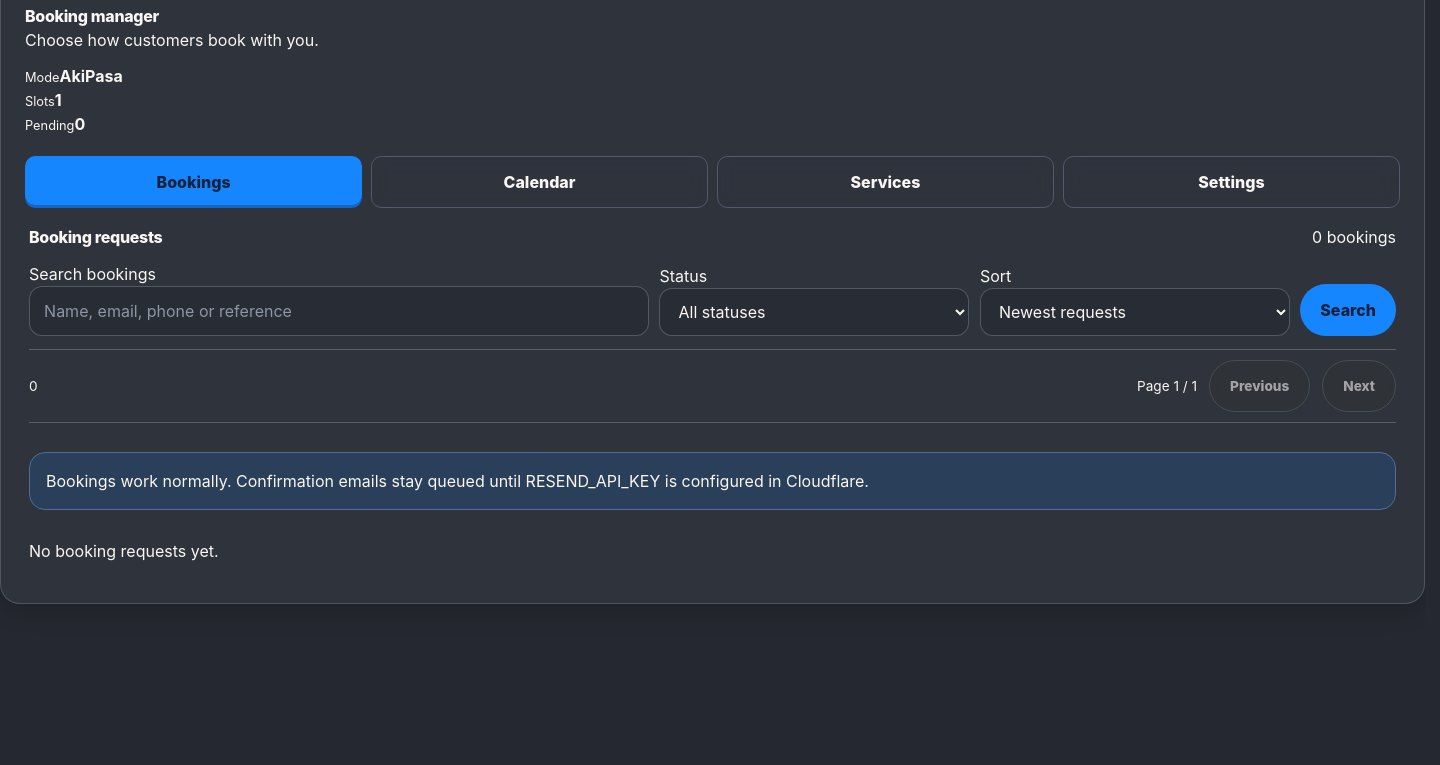
Scenario: AkiBusiness advanced booking manager › shows resources with inventory capacity and a create form
Click the button "Services".
click(886, 182)  # box [717,156,1054,208]
(page scrolled)
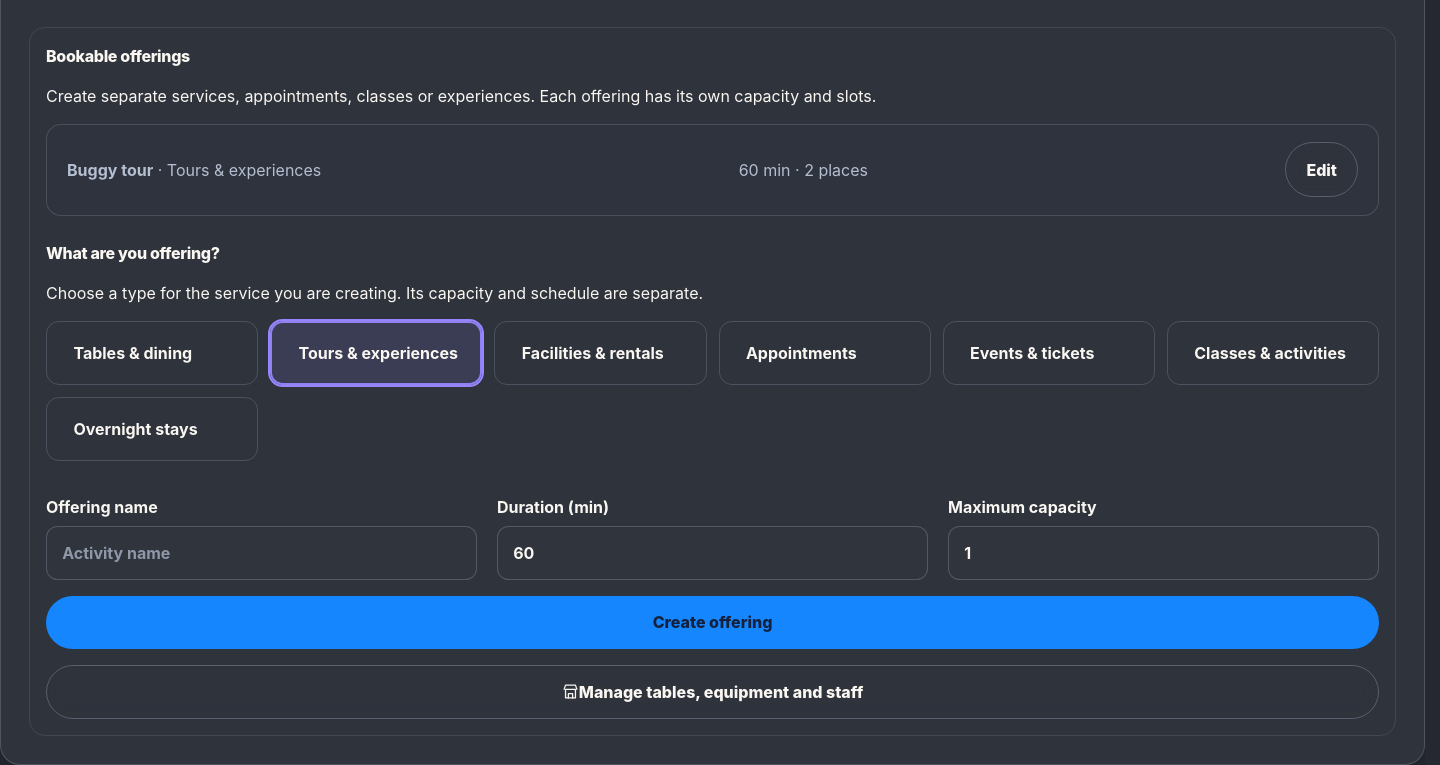
Click the button "Manage tables, equipment and staff".
click(712, 692)  # box [46,665,1379,719]
(page scrolled)
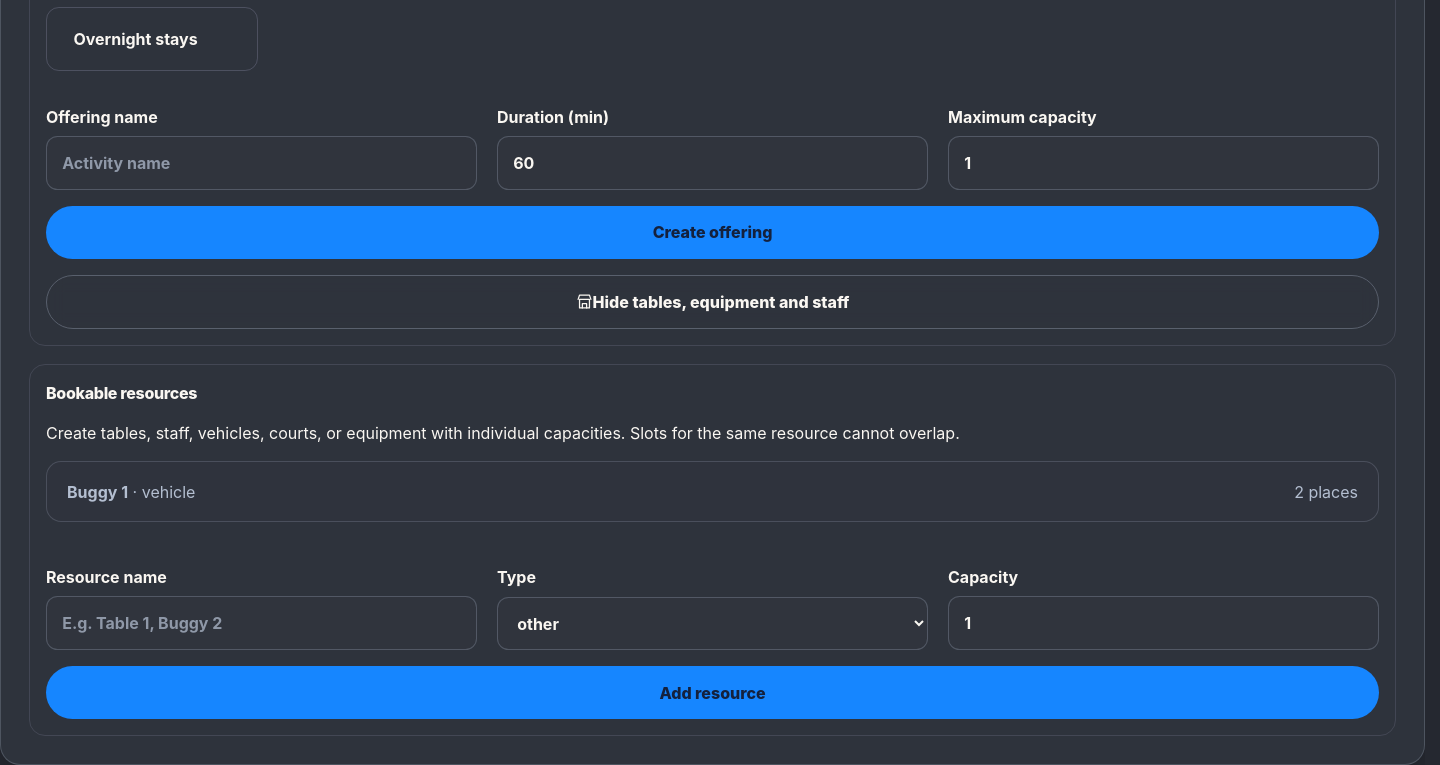
Now the heading "Bookable resources" is shown, box [46,383,197,403]
Now the text "Buggy 1" is shown, box [67,482,128,502]
Now the field labelled "Resource name" is shown, box [46,596,477,650]
